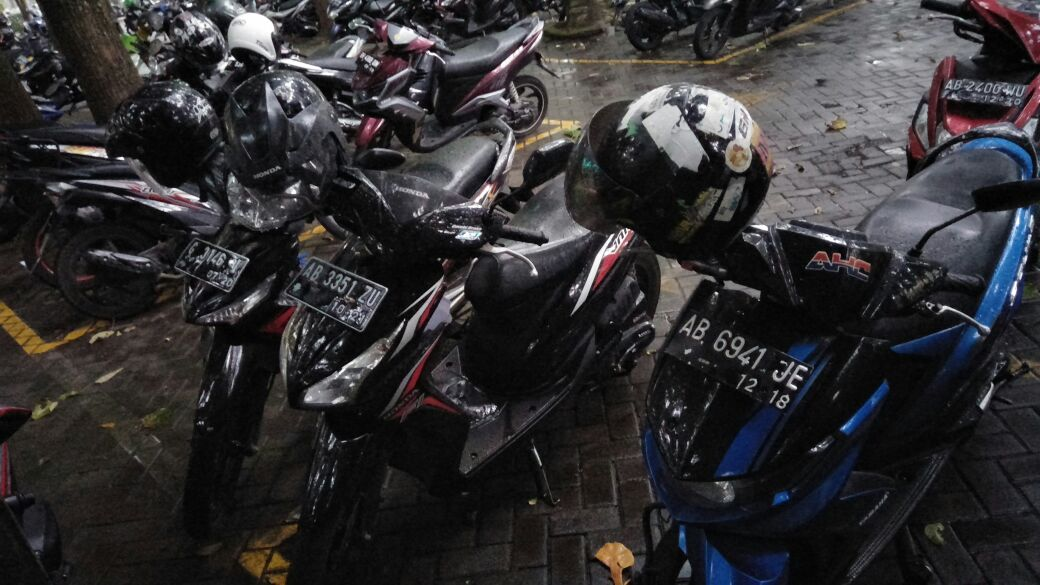plate: (662, 311, 813, 416), (287, 257, 389, 333), (172, 236, 250, 292)
